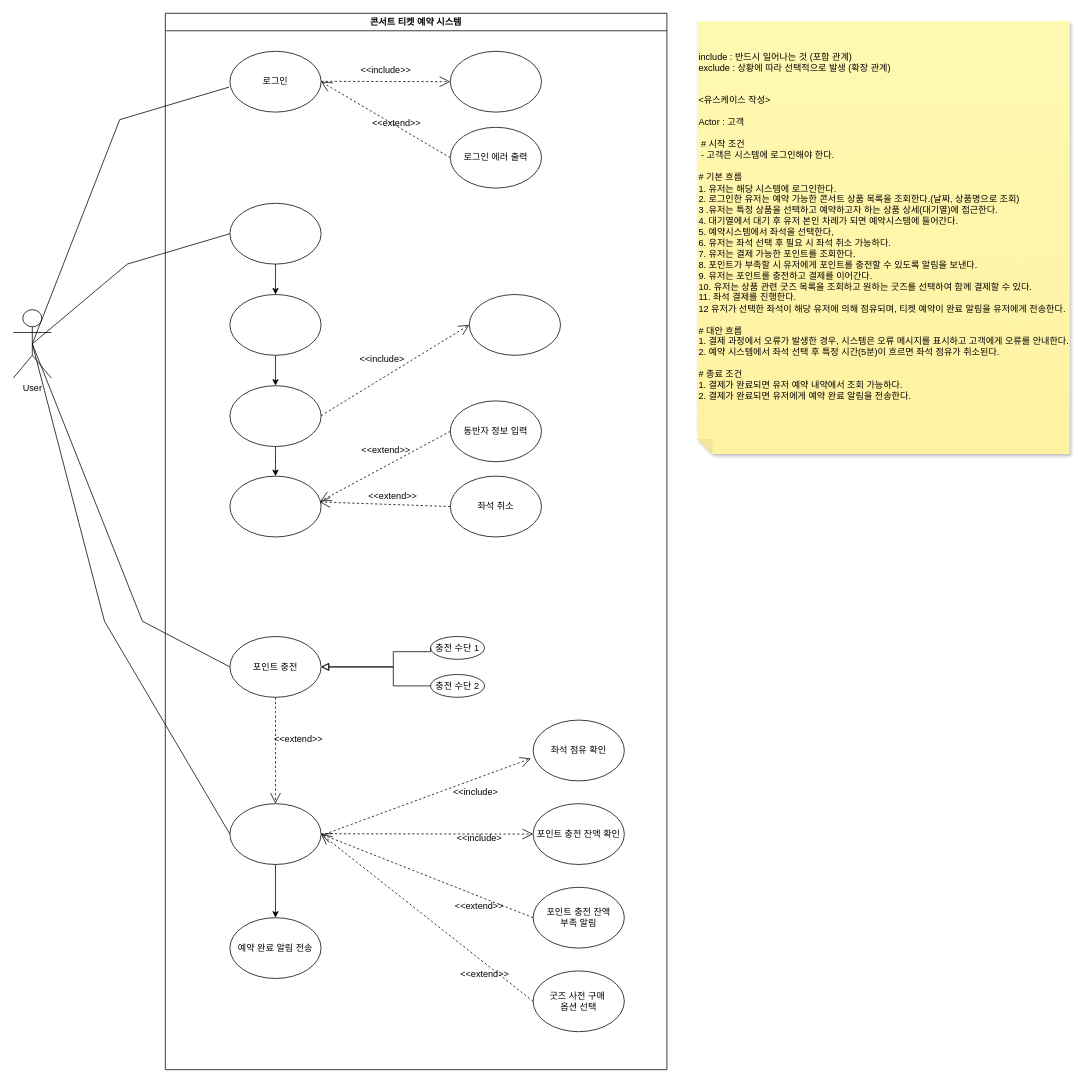
Some shapes in this 1088 by 1083 pixel diagram are drawn without their labels. The shapes that lost their labels are listed below. From the top down, each one's centre as x and y in pixels, then its label:
point 496,81: 유저 정보 확인
point 275,233: 콘서트 상품 조회
point 275,324: 콘서트 상품 상세 조회
point 514,324: 대기열 토큰 검증
point 275,415: 콘서트 예약 대기열 진입
point 275,506: 좌석 선택
point 275,833: 결제
